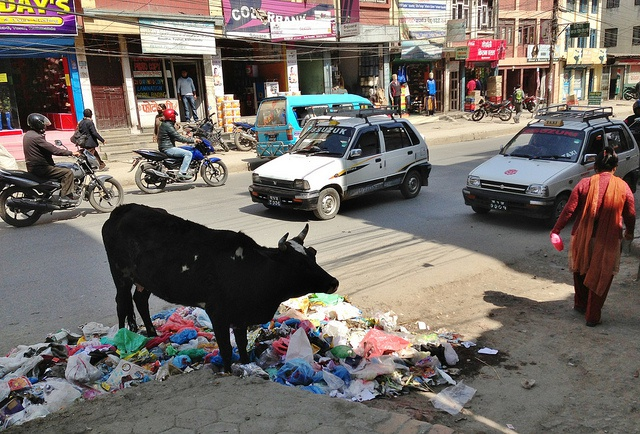non-vehicle: (0, 148, 121, 226), (128, 124, 227, 193), (178, 111, 228, 151), (224, 114, 258, 153), (471, 99, 515, 121), (508, 94, 536, 112), (623, 86, 637, 99)
